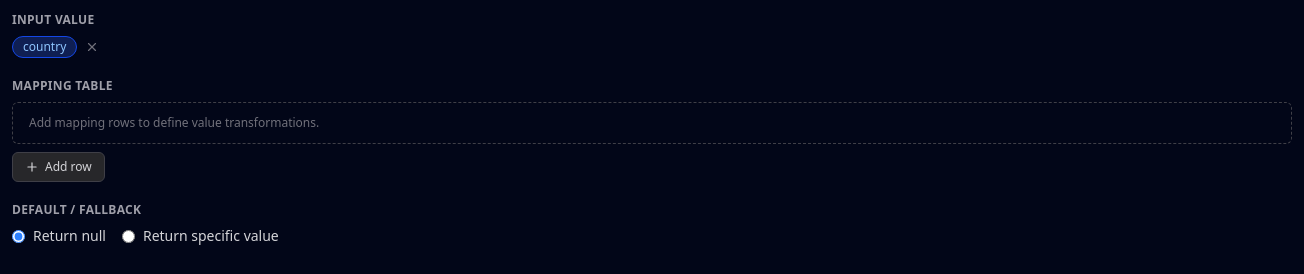
Test: ValueMapModeBuilder — source picker › clearing the source field restores search input
What coordinates should you click on to do the following:
click the button with test id "value-map-source-clear"
I would click on:
 (92, 47)
Its box is [85,40,99,54].
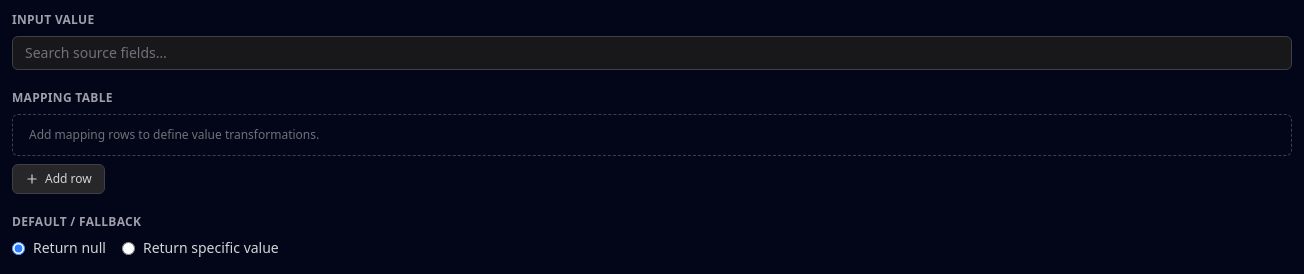
Check: the field with test id "value-map-source-search" is shown, box [12,36,1292,70]
